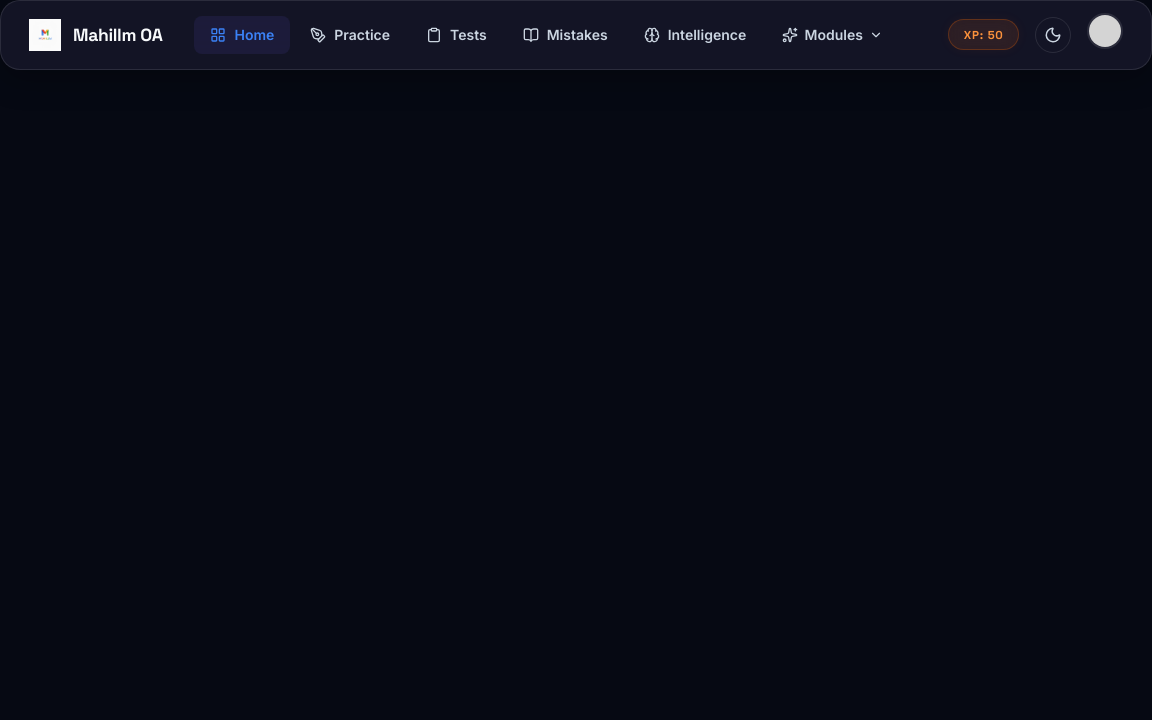
Navbar FloatingMenu Integration › toggles menus mutually exclusively
// Open More
Click the button "Modules".
click(833, 35)  # box [766,18,899,51]
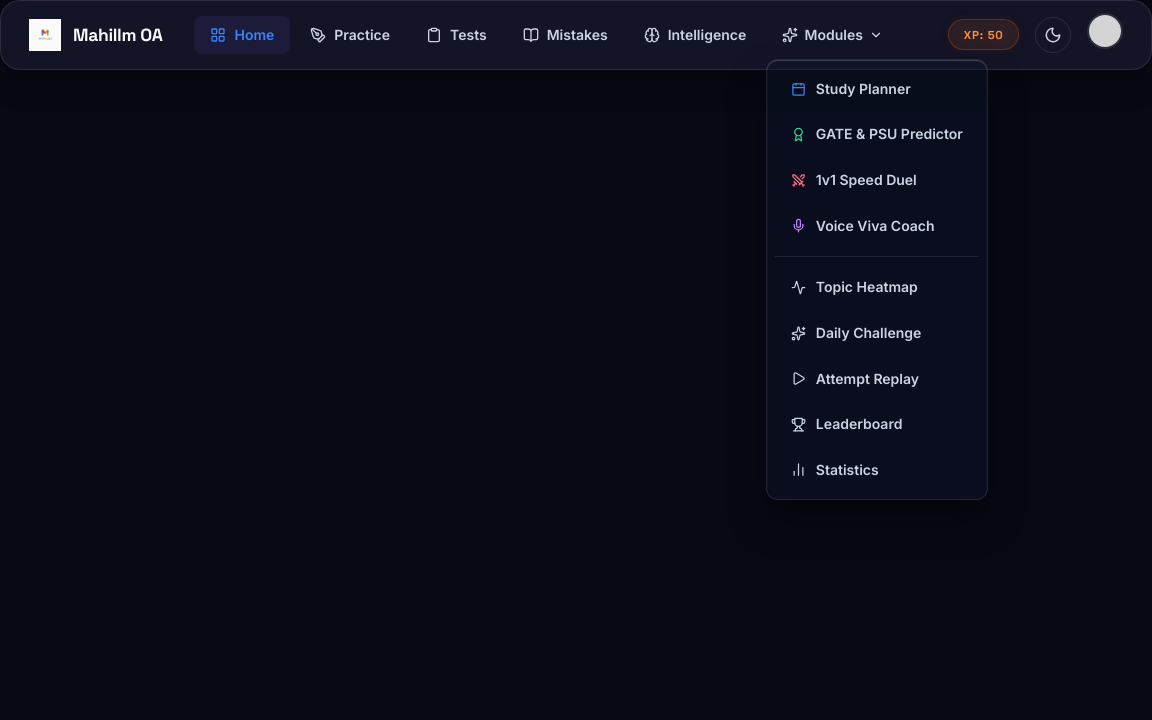
expect the menu item "Daily Challenge" is shown: met, box [791,324,921,341]
// Open Profile
Click the button with alt text "Profile".
click(1105, 32)  # box [1087,13,1123,52]
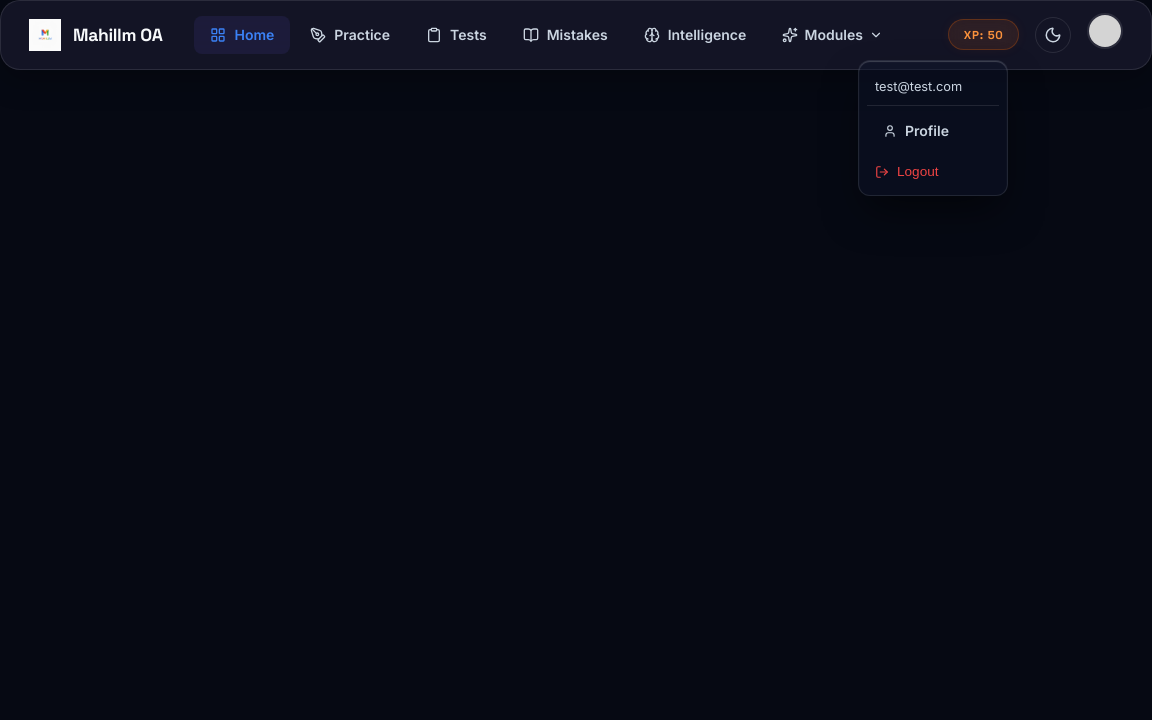
expect the menu item "Daily Challenge" is gone: met
expect the menu item with class "logout-btn" is shown: met, box [867,156,999,187]
